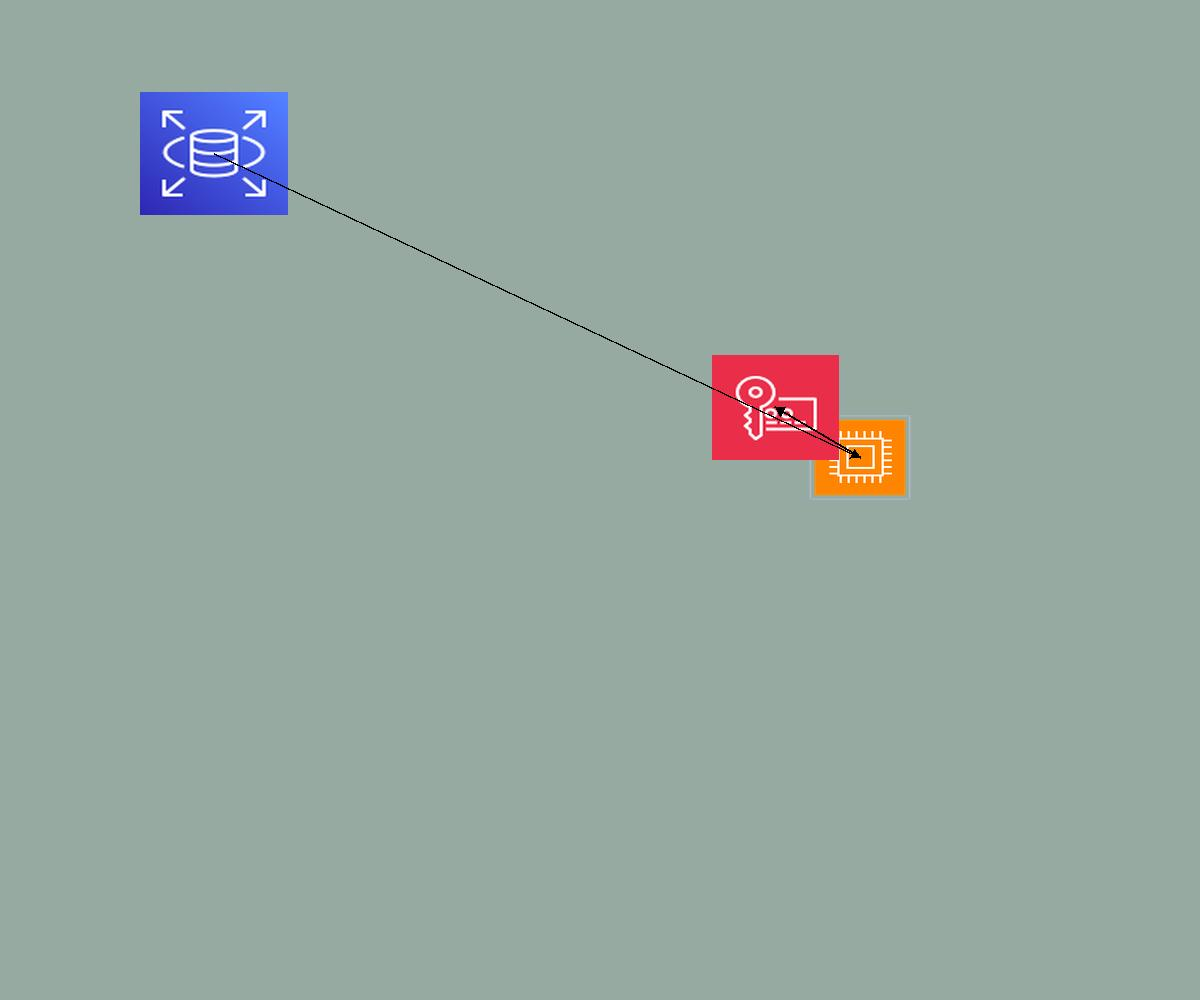AWS-Category_Compute: (809, 415, 911, 500)
AWS-Key-Management-Service: (712, 355, 839, 460)
AWS-RDS: (140, 92, 288, 215)
